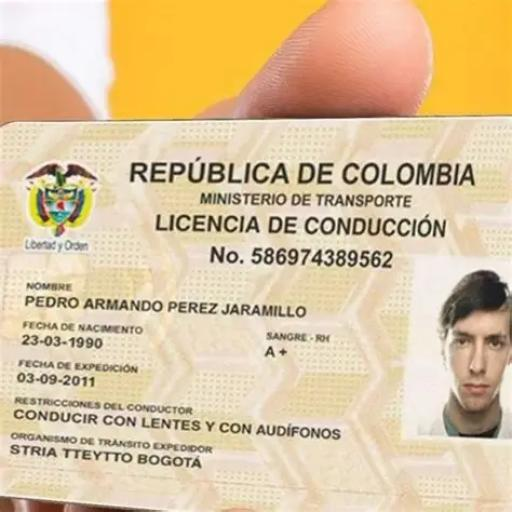colombia: (118, 151, 486, 193)
escudo de colombia: (12, 154, 109, 262)
fechaexpedicion: (9, 369, 113, 395)
fechanacimiento: (16, 330, 129, 353)
foto: (400, 256, 508, 441)
ministerio de transporte: (195, 186, 417, 210)
nombre: (17, 290, 314, 320)
numerolic: (204, 243, 399, 272)
tarjeta conduccion: (1, 117, 511, 511)
titulo licencia: (145, 206, 454, 241)
